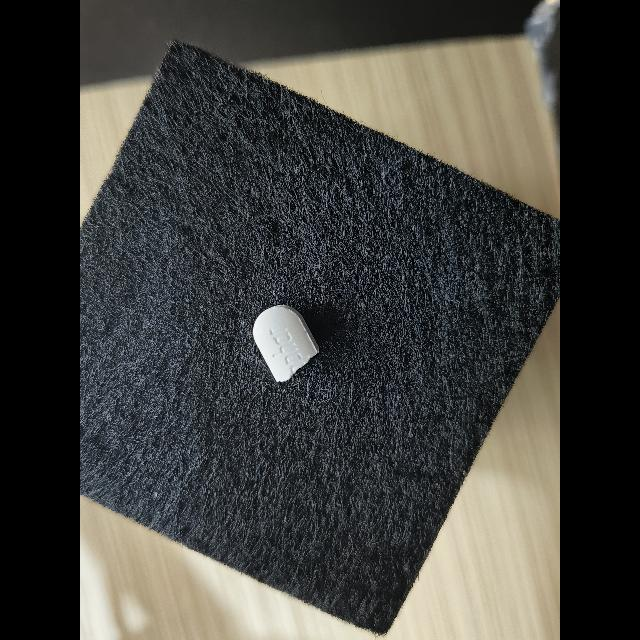Chipped Pill: (253, 305, 319, 382)
